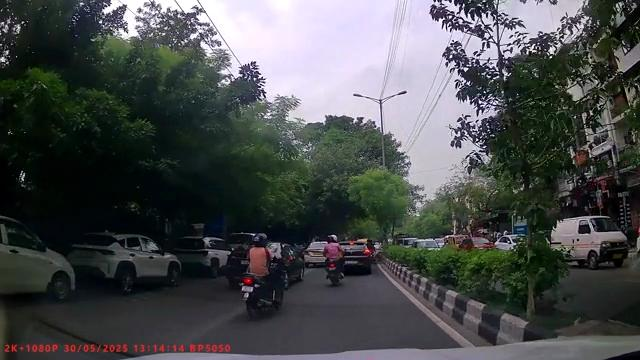motorcycle_with_helmet: (240, 232, 285, 320), (323, 233, 346, 286)
